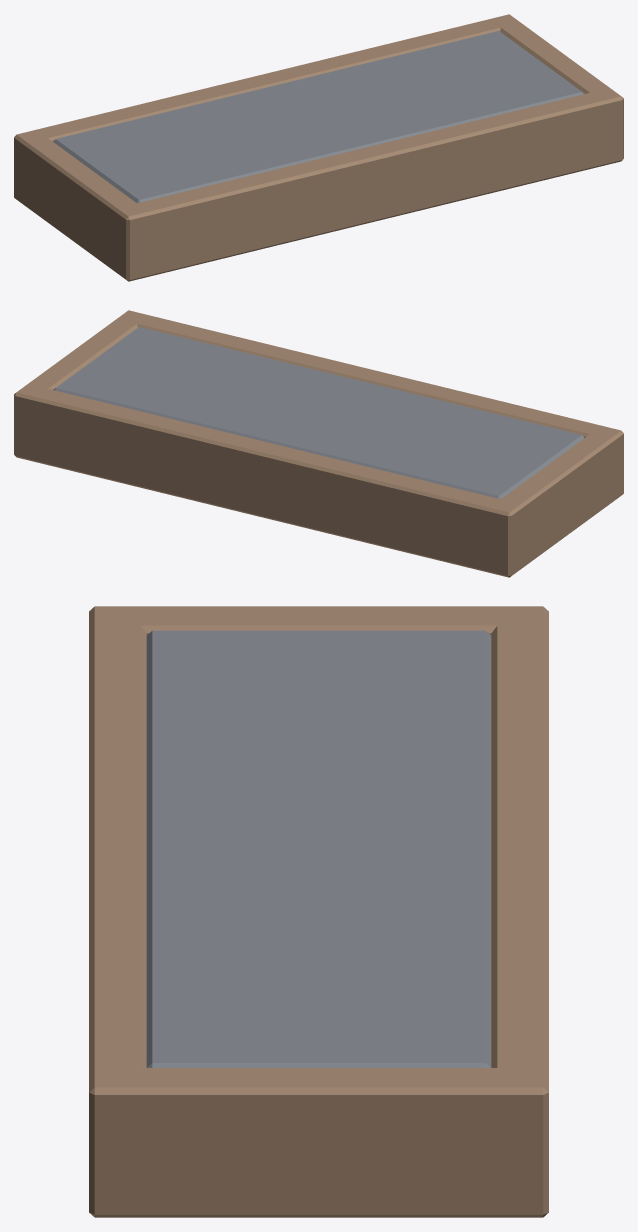
Rendered from Plinth_2.glb.
3 views of the same model, one above another, from view 1: azimuth 30°, elevation 25°; view 2: azimuth 150°, elevation 25°; view 3: azimuth 270°, elevation 25° (orthographic). The views are drawn at different scales.
Visible parts, largest first — view 1: SpaceSaver_WallSys_Plinth_2; view 2: SpaceSaver_WallSys_Plinth_2; view 3: SpaceSaver_WallSys_Plinth_2.
Part boxes in pixels (x1,y1,x2,y2): SpaceSaver_WallSys_Plinth_2: [14, 14, 623, 281]; SpaceSaver_WallSys_Plinth_2: [14, 310, 623, 577]; SpaceSaver_WallSys_Plinth_2: [89, 606, 548, 1217].
Size of the model in its own units: 0.8 by 0.1 by 0.32.
